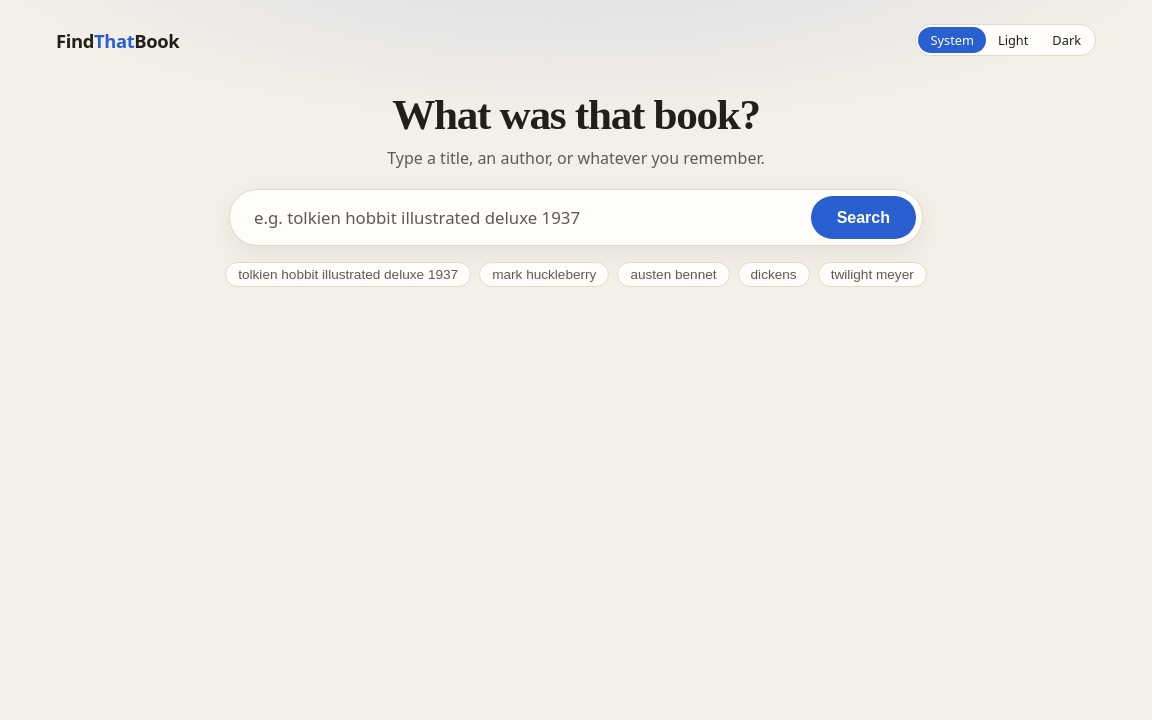
Test: the error toast can be dismissed
Type "hobbit" into the search field at (523, 218), box [236,196,811,239]
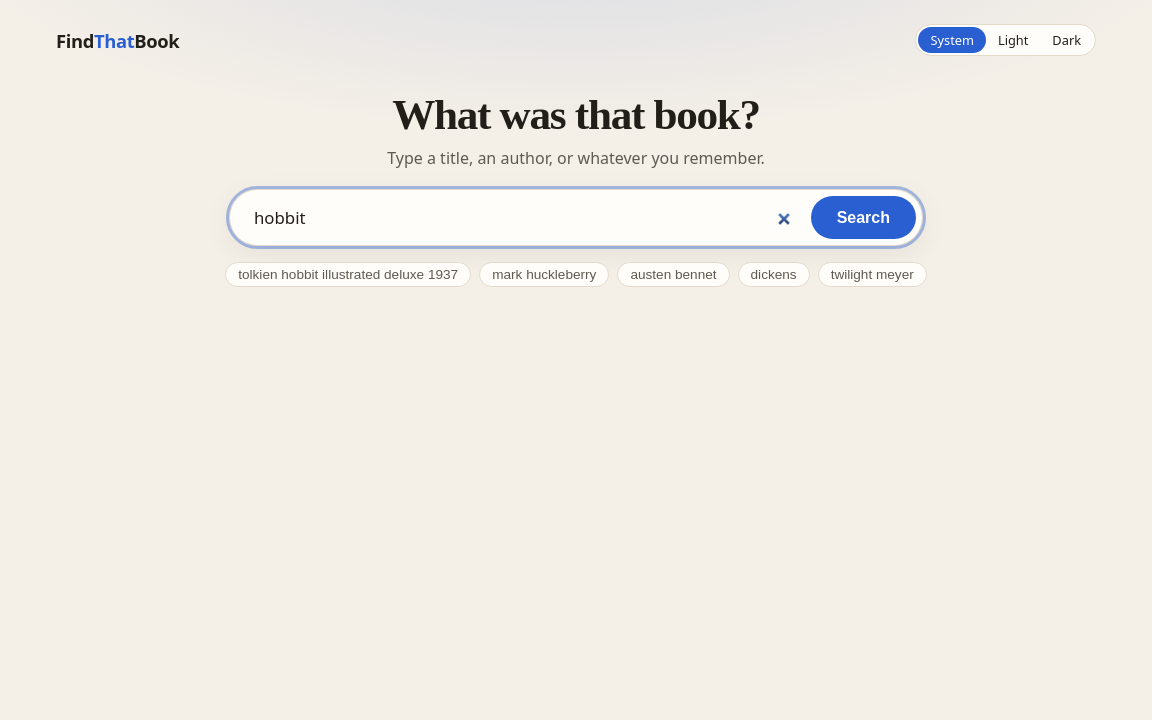
Click the button "Search" at (863, 218), box [811,196,916,239]
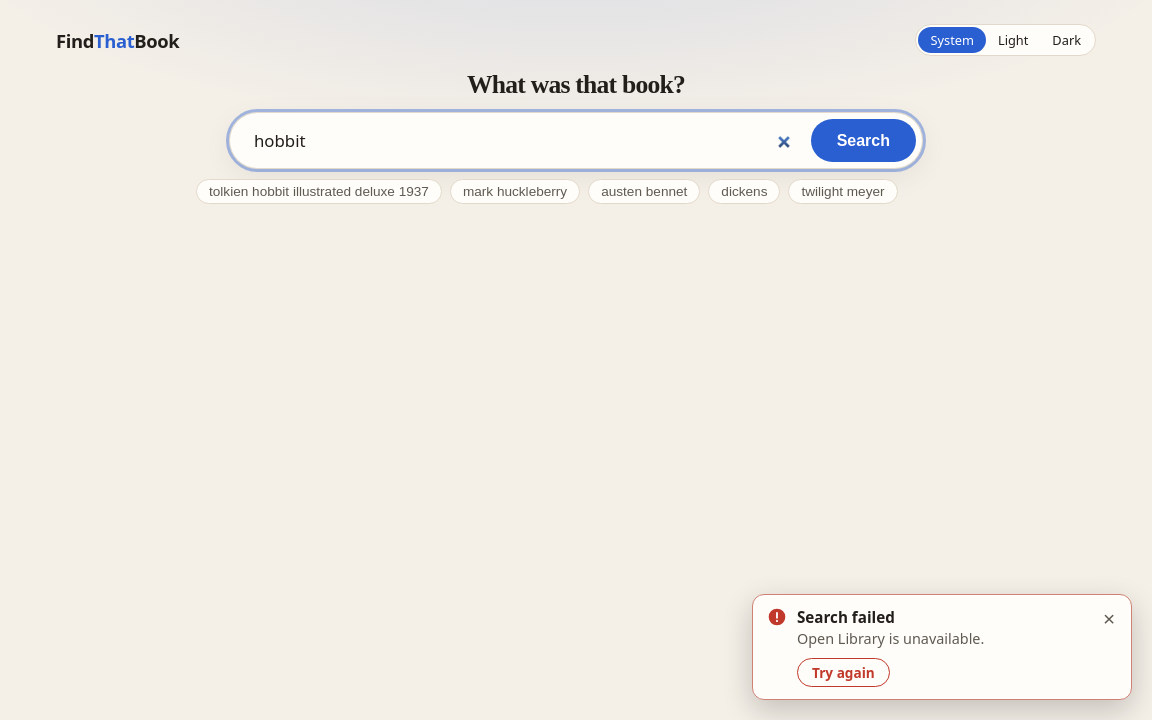
Now the message shows "Search failed", box [797,607,895,627]
Click the button named "Dismiss" at (1109, 619), box [1097,607,1121,631]
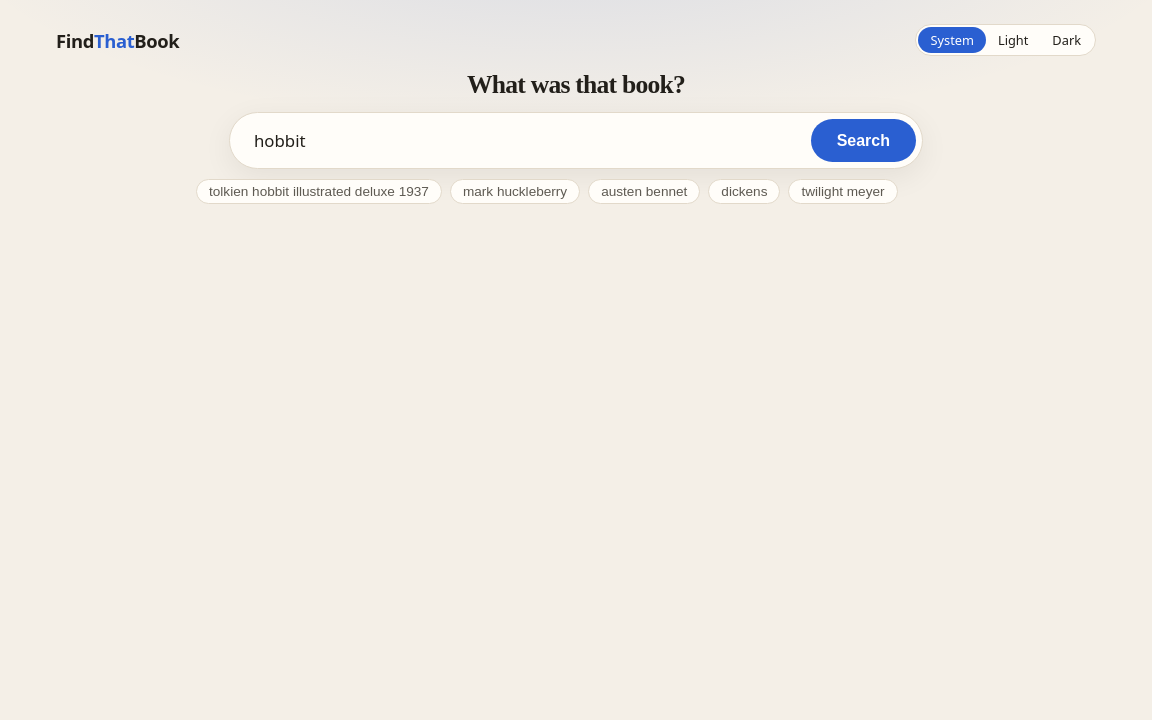
Now the message "Search failed Open Library is unavailable. Try again ×" is gone
